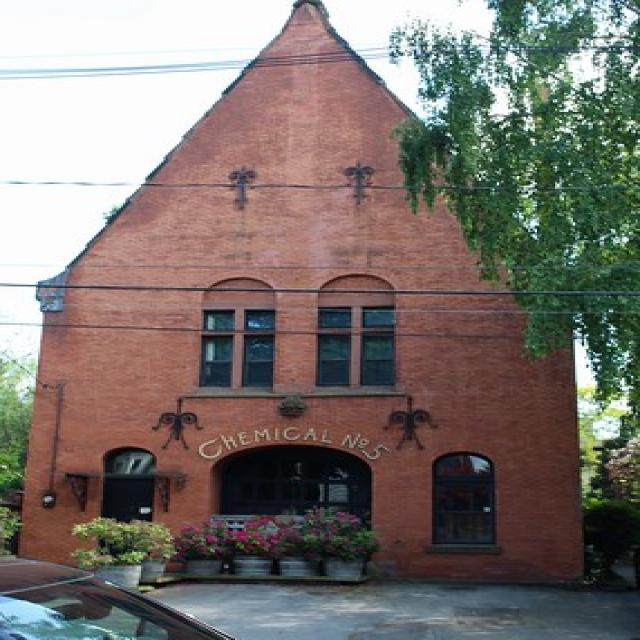building: (11, 4, 593, 594)
